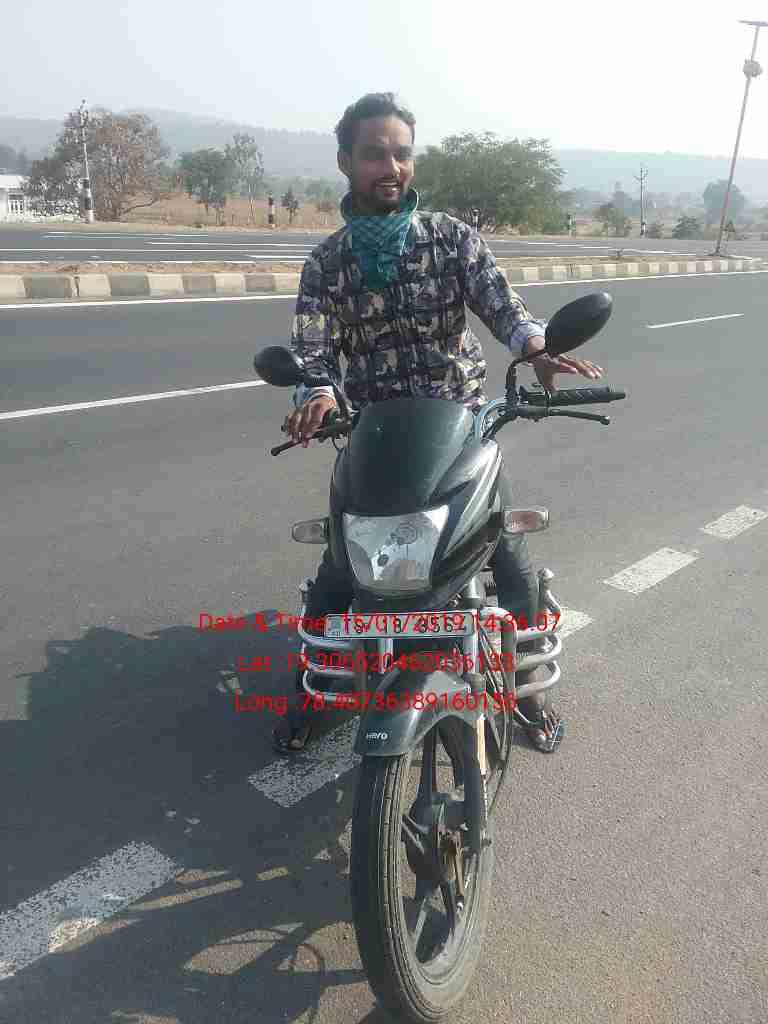without_helmet: (224, 82, 646, 1024)
